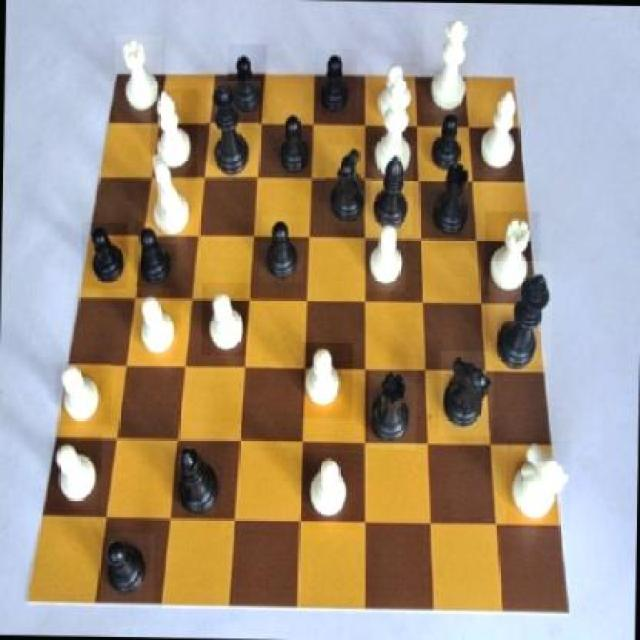bishop: (172, 442, 228, 522), (366, 144, 413, 234)
black-bishop: (488, 258, 552, 366)
black-king: (438, 351, 494, 437), (324, 146, 372, 231)
black-knight: (98, 532, 154, 602), (274, 109, 320, 177), (226, 45, 267, 120), (82, 222, 128, 288), (260, 215, 305, 282), (134, 222, 177, 290), (314, 48, 357, 114), (428, 106, 467, 173)
black-pawn: (206, 80, 259, 179)
black-queen: (368, 369, 417, 449), (424, 162, 474, 238)
black-rook: (151, 88, 198, 180), (477, 86, 525, 172)
white-bishop: (370, 65, 418, 177)
white-king: (506, 438, 571, 528), (143, 146, 193, 244)
white-knight: (303, 452, 360, 530), (48, 434, 102, 511), (303, 343, 354, 420), (368, 50, 418, 126), (54, 362, 111, 426), (202, 283, 249, 357), (132, 288, 180, 357), (363, 222, 405, 292)
white-pawn: (423, 12, 474, 115)
white-queen: (485, 212, 540, 297), (114, 36, 161, 121)
